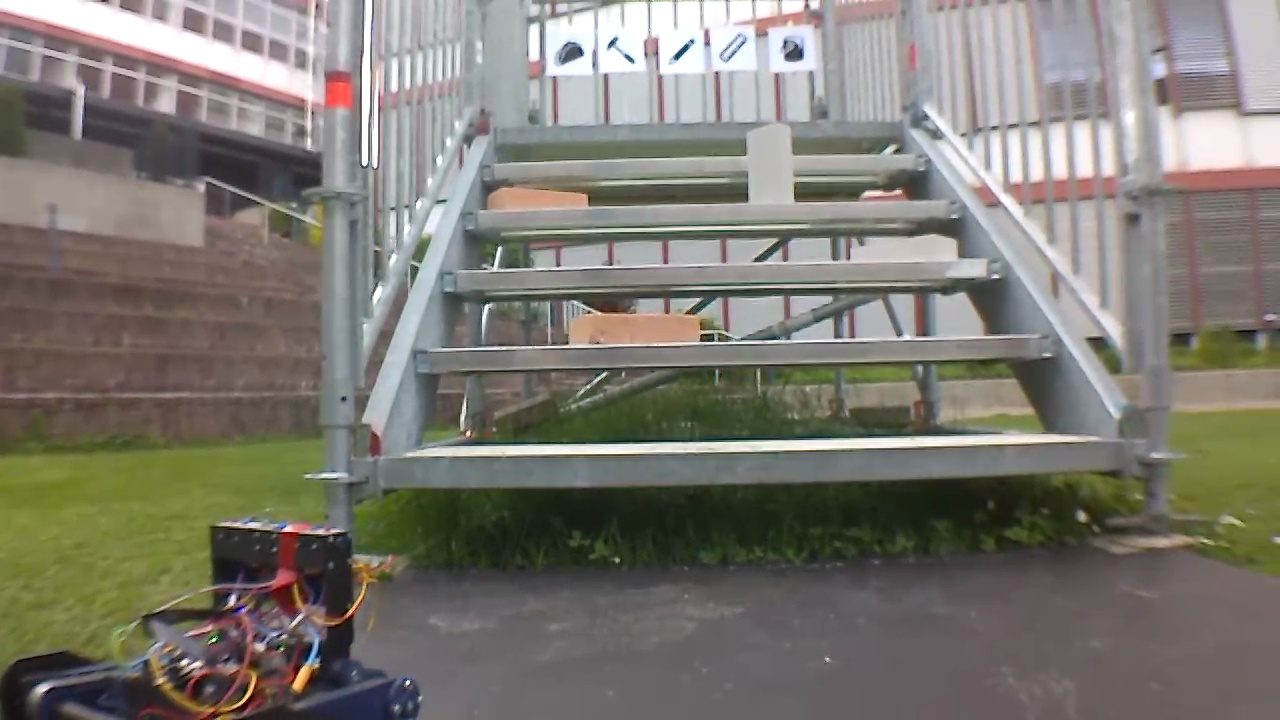brick: (569, 314, 698, 342), (748, 124, 793, 203), (860, 234, 956, 261), (487, 187, 587, 209)
bucket: (776, 32, 805, 65)
edge: (384, 442, 1127, 483), (417, 336, 1054, 368), (443, 258, 1002, 287), (462, 201, 963, 223), (485, 154, 932, 176), (496, 121, 910, 138)
hammer: (598, 29, 642, 66)
pencil: (665, 34, 701, 69)
ruler: (715, 30, 751, 66)
stairs: (312, 2, 1180, 544)
steps: (376, 115, 1141, 494)
taco: (553, 34, 586, 68)
